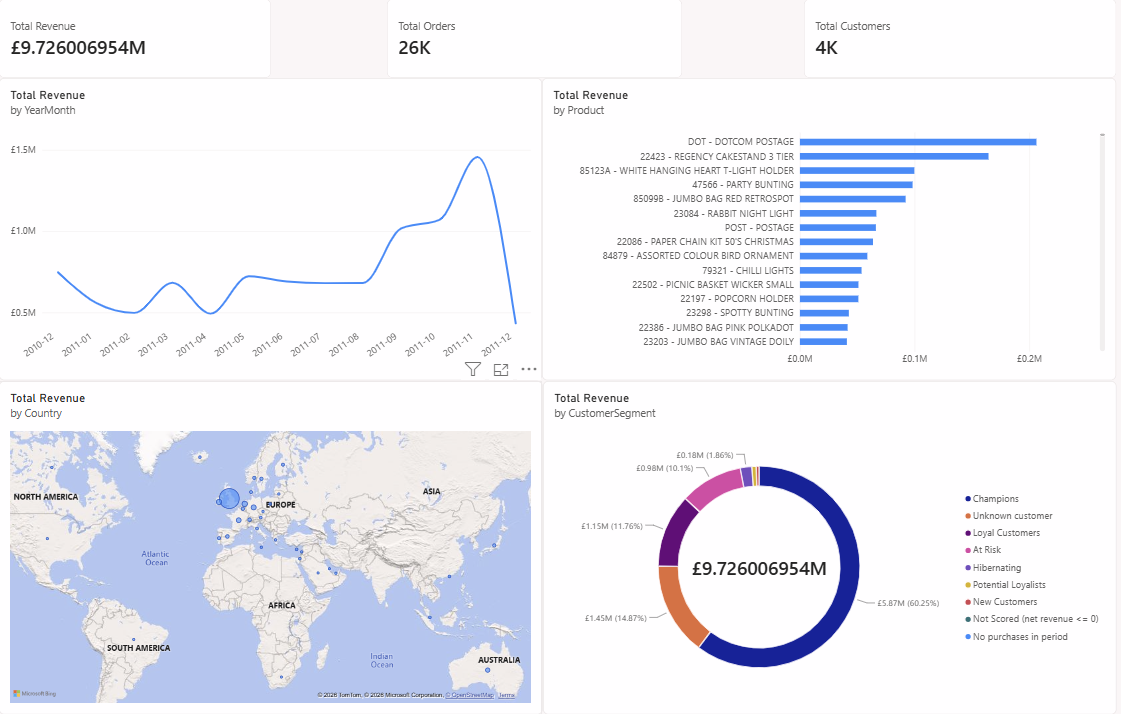

The dashboard page shown, as its layout file describes it:
{"tool":"powerbi","page":{"name":"Page 1","canvas":[1920,1080],"ordinal":0},"visuals":[{"type":"cardVisual","fields":{"Data":["FactSales.Total Revenue"]},"box":[141.5,0,410.4,119.5],"z":0},{"type":"cardVisual","fields":{"Data":["FactSales.Total Customers"]},"box":[1355.5,0,471.7,119.5],"z":1000},{"type":"cardVisual","fields":{"Data":["FactSales.Total Orders"]},"box":[726.5,0,445,119.5],"z":2000},{"type":"lineChart","fields":{"Category":["DimDate.YearMonth"],"Y":["FactSales.Total Revenue"]},"box":[141.5,119.5,819.3,456],"z":3000},{"type":"clusteredBarChart","fields":{"Category":["DimProduct.Product"],"Y":["FactSales.Total Revenue"]},"box":[960.8,119.5,866.4,456],"z":4000},{"type":"map","fields":{"Category":["DimCountry.Country"],"Size":["FactSales.Total Revenue"]},"box":[141.5,576.3,819.9,503.3],"z":5000},{"type":"donutChart","fields":{"Category":["DimCustomer.CustomerSegment"],"Y":["FactSales.Total Revenue"]},"box":[962,576,865,503],"z":6000}]}

Visuals, with their boxes on the page's 1920x1080 design canvas (x1, y1, x2, y2). These are canvas units, not pixel positions in the 1121x714 screenshot, which may show the page scaled, cropped or inside an application window:
cardVisual - FactSales.Total Revenue: left=142, top=0, right=552, bottom=120
cardVisual - FactSales.Total Customers: left=1356, top=0, right=1827, bottom=120
cardVisual - FactSales.Total Orders: left=726, top=0, right=1172, bottom=120
lineChart - DimDate.YearMonth x FactSales.Total Revenue: left=142, top=120, right=961, bottom=576
clusteredBarChart - DimProduct.Product x FactSales.Total Revenue: left=961, top=120, right=1827, bottom=576
map - DimCountry.Country x FactSales.Total Revenue: left=142, top=576, right=961, bottom=1080
donutChart - DimCustomer.CustomerSegment x FactSales.Total Revenue: left=962, top=576, right=1827, bottom=1079
